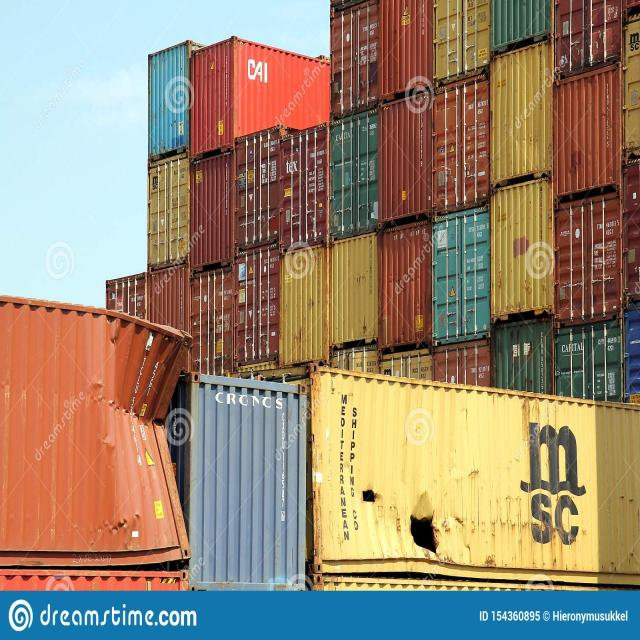hole: (350, 485, 450, 577)
